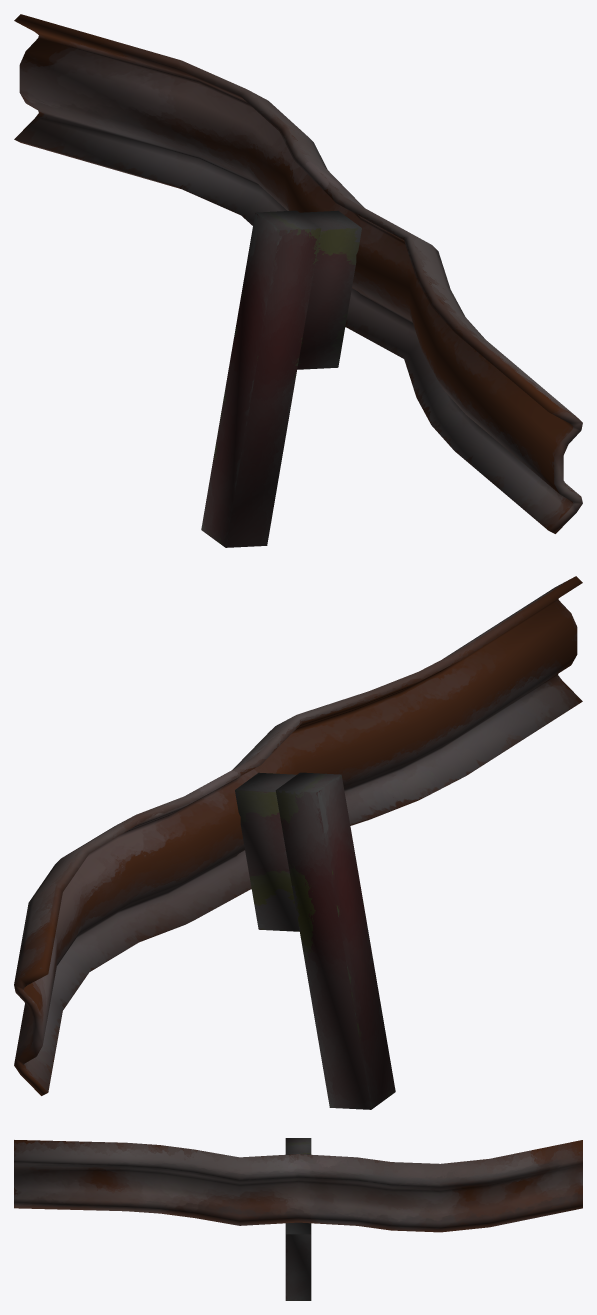
File: Segment#5(Dented_Var#2).fbx
3 views of the same model, one above another, from view 1: azimuth 30°, elevation 25°; view 2: azimuth 150°, elevation 25°; view 3: azimuth 270°, elevation 25° (orthographic). The views are drawn at different scales.
Visible parts, largest first — view 1: Cube.009, Cube.004; view 2: Cube.009, Cube.004; view 3: Cube.009, Cube.004.
Part boxes in pixels (left/top/right/bottom): Cube.009: left=14, top=14, right=582, bottom=533; Cube.004: left=201, top=210, right=361, bottom=547; Cube.009: left=14, top=576, right=582, bottom=1095; Cube.004: left=235, top=772, right=395, bottom=1109; Cube.009: left=14, top=1140, right=582, bottom=1232; Cube.004: left=285, top=1138, right=311, bottom=1300.
Bounding box in the file's own units: 56.45 × 88.3 × 268.
